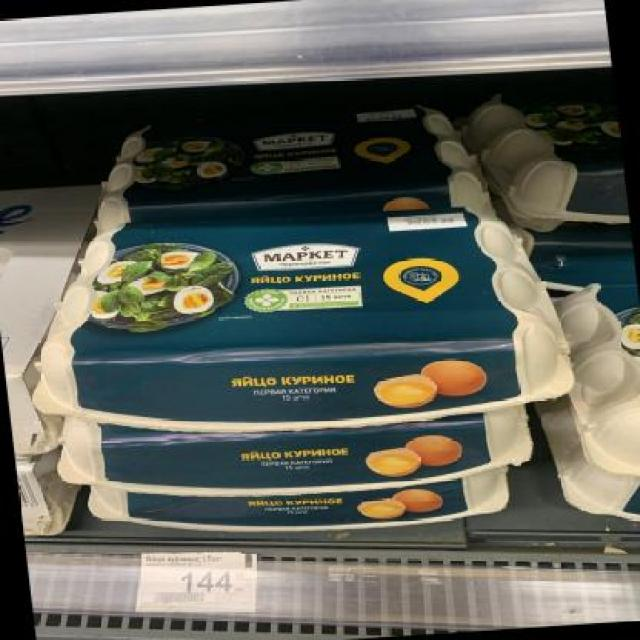Egg: (12, 190, 585, 448), (88, 96, 487, 224), (56, 402, 540, 496), (494, 116, 630, 235)
